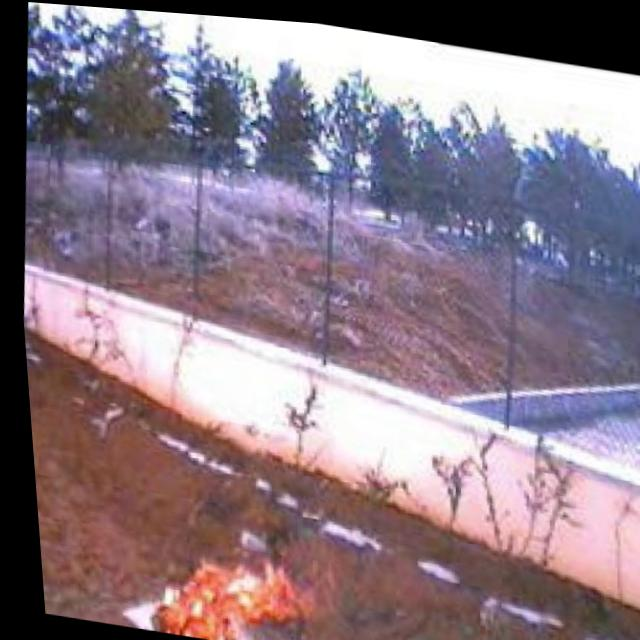Fire: (126, 533, 327, 640)
